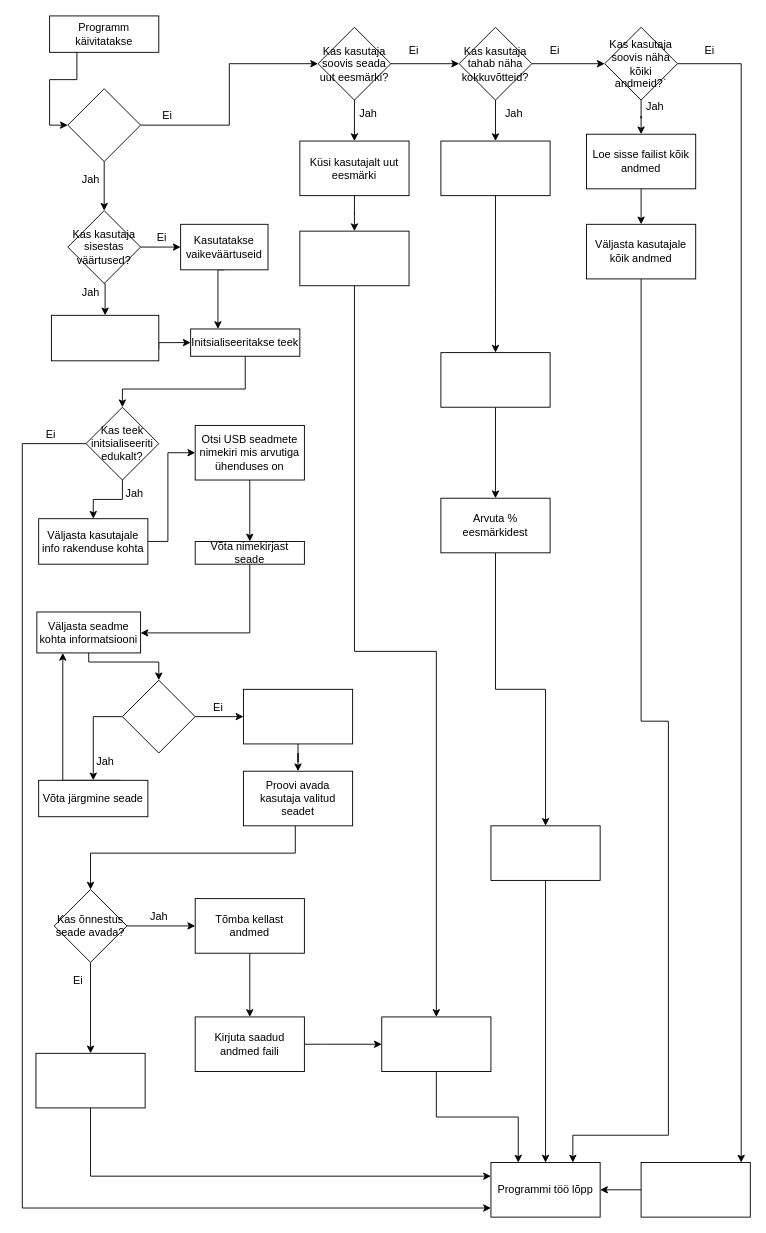
Some shapes in this 766 by 1233 pixel diagram are drawn without their labels. The shapes that lost their labels are listed below. From the top down, each one's centre as x and y in pixels, then its label:
At [104,125]: "Kas kasutaja tahab saada kellast andmeid?".
At [495,168]: "Loe sisse failist vajalikud andmed".
At [354,258]: "Kirjuta kasutajalt saadud uus eesmärk faili".
At [105,337]: "Kasutatakse kasutaja muutujaid".
At [495,379]: "Arvuta kokkuvõtted(distants, aeg)".
At [158,716]: "Kas eksisteerib järgmine seade?".
At [298,716]: "Vabasta nimekiri leitud seadmetest".
At [545,852]: "Väljasta kasutajale kokkuvõtted".
At [436,1044]: "Anna kasutajale informatsiooni operatsiooni õnnestumise kohta".
At [90,1080]: "Väljasta kasutajale veateade".
At [695,1189]: "Väljasta kasutajale informatsioon rakenduse kasutamise kohta".
